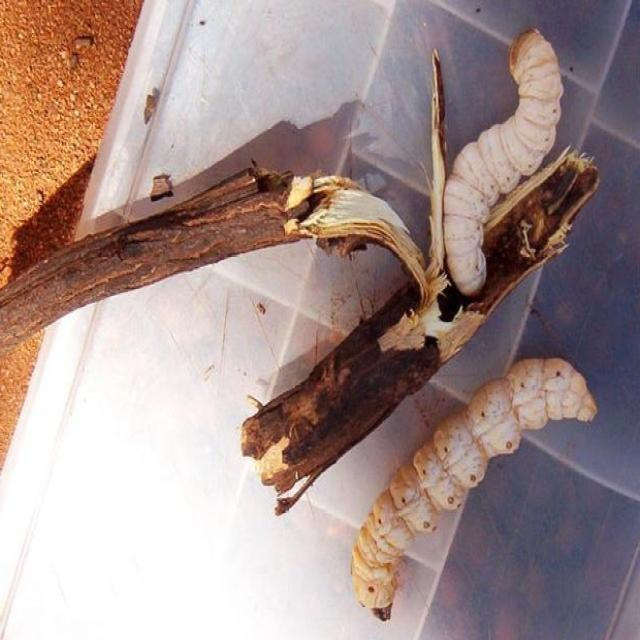grub: (338, 353, 599, 623), (411, 30, 565, 300)
